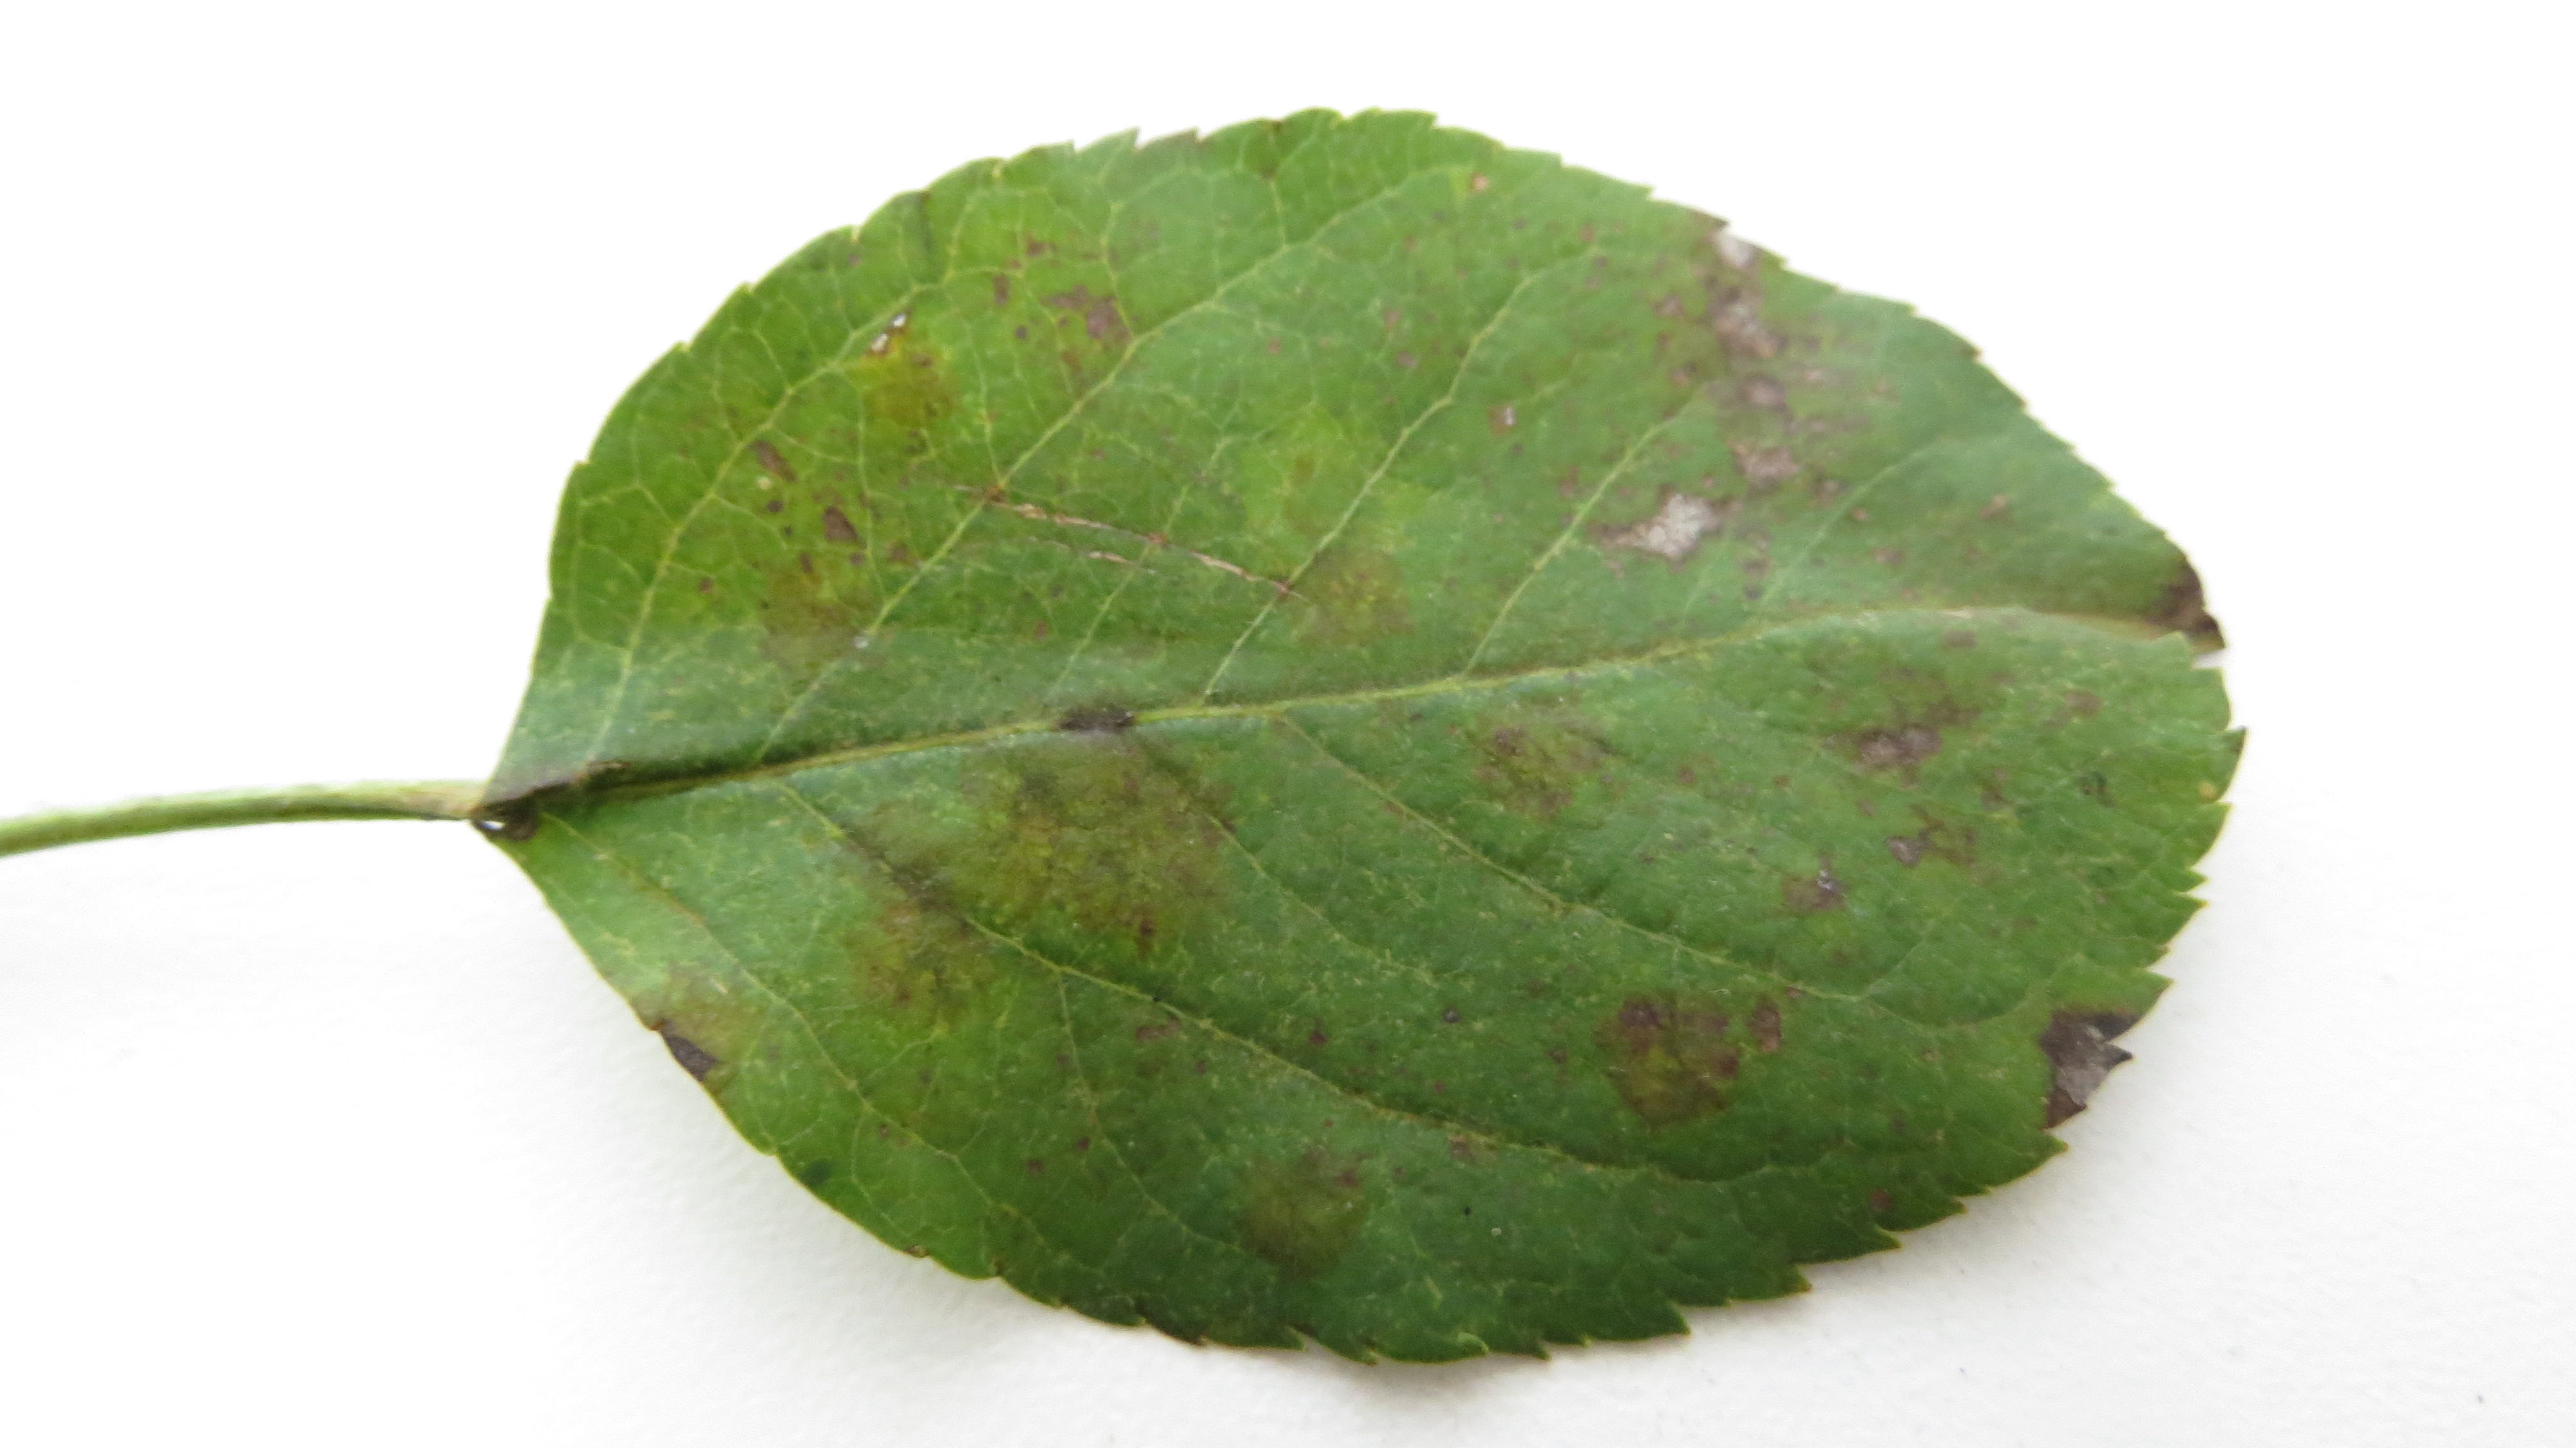sarna: (832, 800, 1001, 1041), (1263, 480, 1430, 671), (1212, 1119, 1396, 1285), (1591, 972, 1775, 1135), (975, 733, 1102, 936), (1444, 703, 1645, 828), (1088, 825, 1244, 968), (1585, 466, 1748, 598), (731, 547, 876, 689), (1812, 653, 1974, 777), (858, 306, 977, 471), (639, 963, 780, 1098), (1697, 372, 1842, 494), (1674, 248, 1803, 381), (1108, 738, 1246, 836), (991, 1108, 1113, 1213), (2036, 991, 2134, 1122), (1868, 782, 1990, 878), (1810, 301, 1895, 421), (2134, 554, 2226, 659), (1042, 673, 1150, 761), (1030, 278, 1132, 370), (1766, 843, 1865, 936), (1122, 1000, 1207, 1096), (732, 416, 800, 499), (798, 485, 865, 545)
